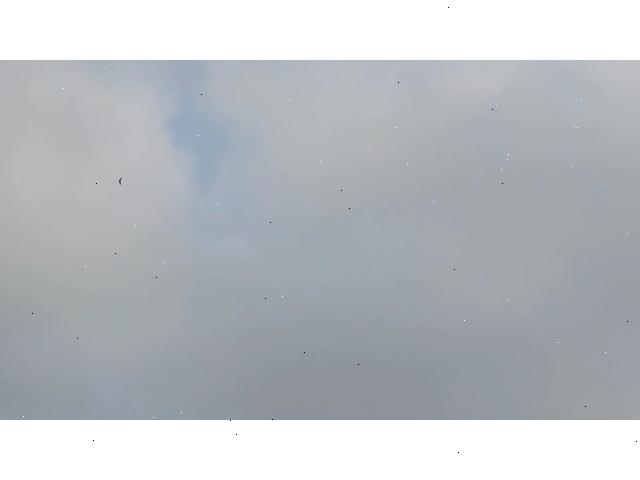Anti-Drone: (118, 176, 124, 185)
